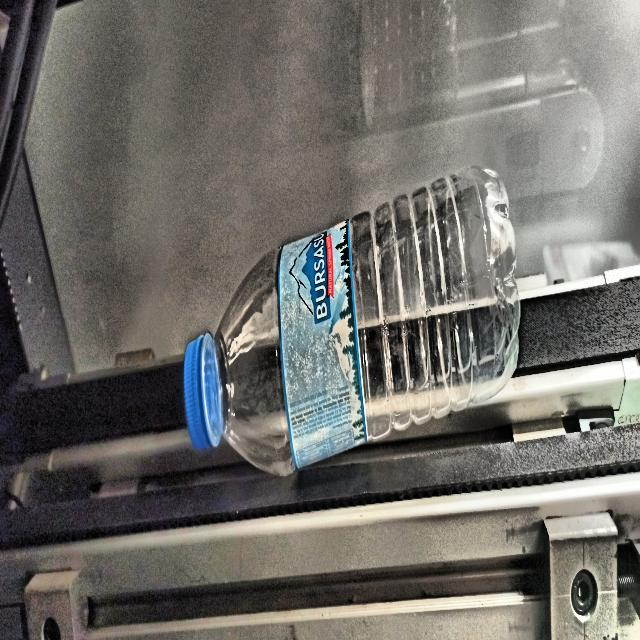plastic bottle: (183, 164, 521, 474)
